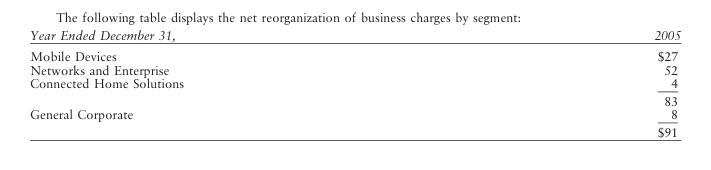table: (29, 28, 680, 139)
table column: (29, 28, 418, 139), (418, 28, 680, 139)
table row: (29, 28, 680, 46), (29, 46, 680, 63), (29, 92, 680, 108), (29, 123, 680, 139), (29, 77, 680, 92), (29, 108, 680, 123), (29, 63, 680, 77)
